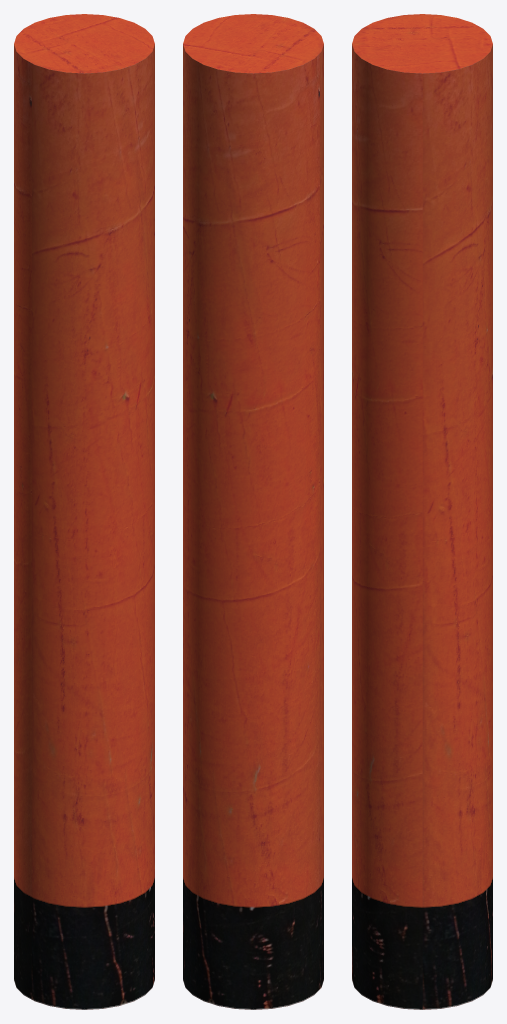
File: orange_pole.dae
3 renders of one model, left to right at view 1: azimuth 30°, elevation 25°; view 2: azimuth 150°, elevation 25°; view 3: azimuth 270°, elevation 25°, orthographic.
Parts seen in each view (by area): view 1: instance_0; view 2: instance_0; view 3: instance_0.
Boxes of the visible parts, x1,y1,x2,y2 form: instance_0: (14,14,154,1009); instance_0: (183,14,323,1009); instance_0: (352,14,492,1009).
Bounding box in the file's own units: 11.81 × 11.81 × 86.61.
2 materials, 1 textured.
